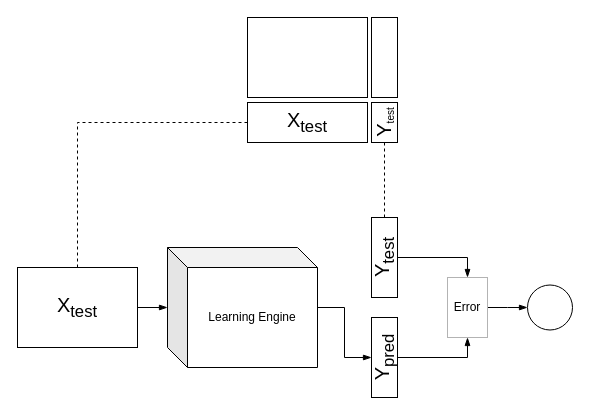
Some shapes in this 590 by 415 pixel diagram are drawn without their labels. Here are the shapes that lost their labels. From the top down, the box of each, then its label:
(246, 16, 368, 98): X train
(370, 16, 398, 98): Y train
(526, 284, 572, 330): Quality
